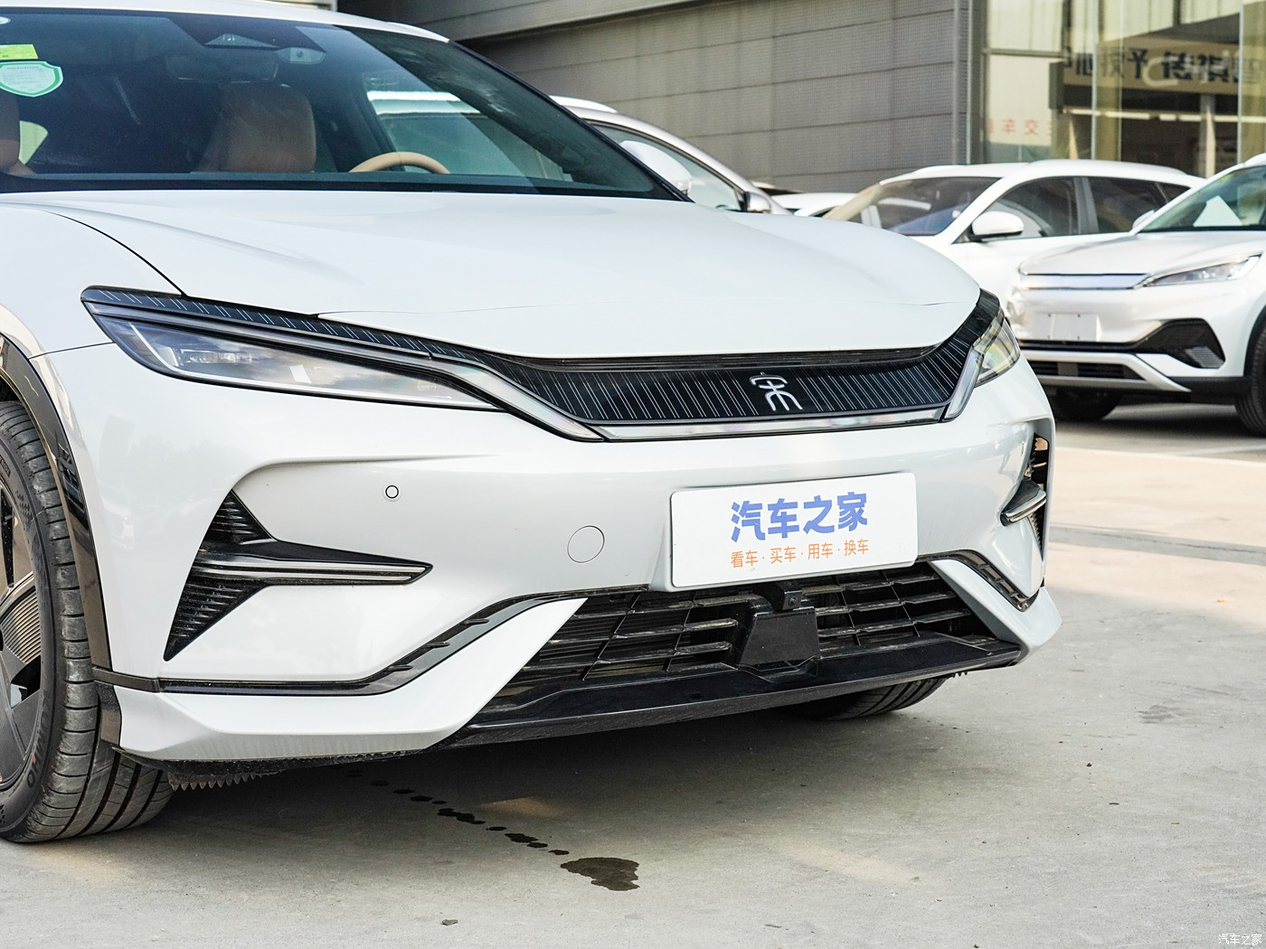BYD Song: (750, 371, 802, 410)
